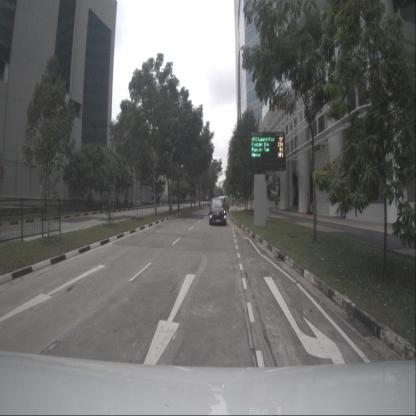cone: (303, 207, 306, 218)
